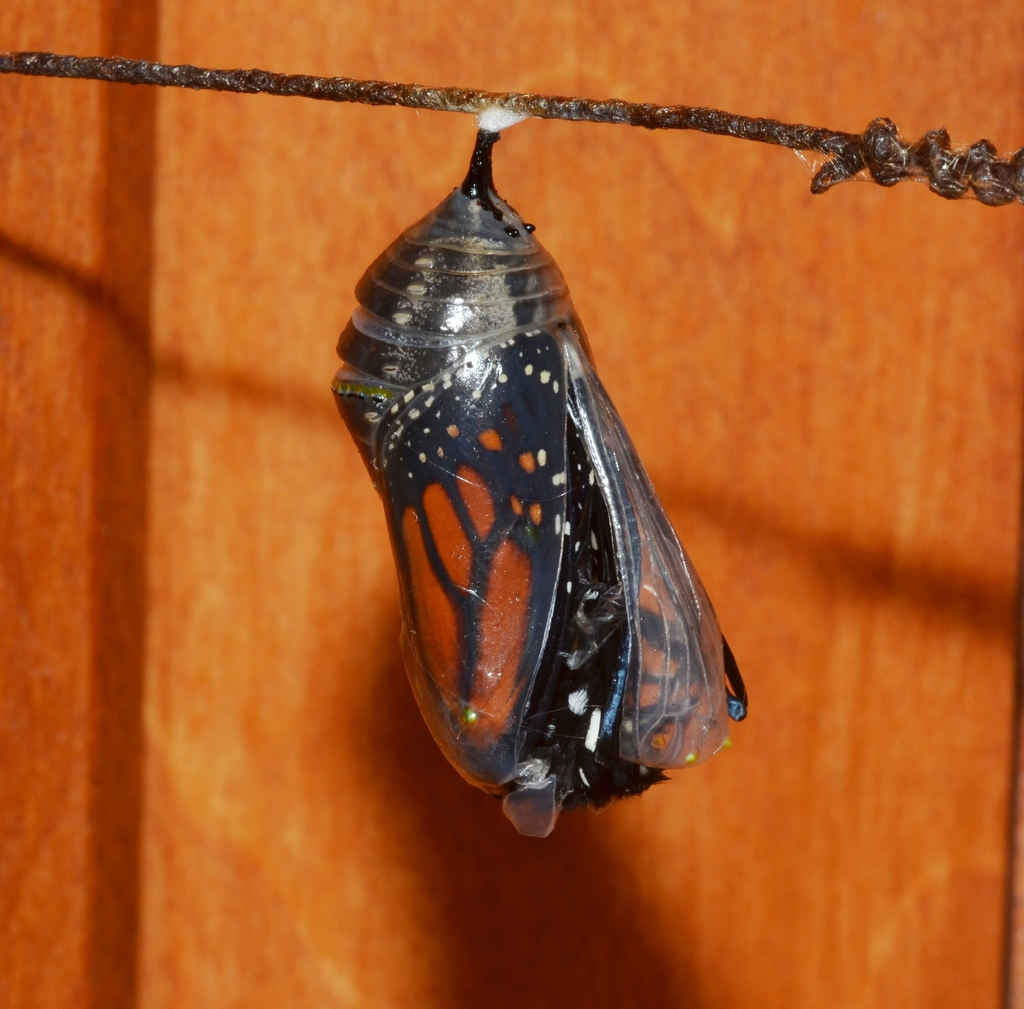Butterfly: (340, 176, 747, 817)
